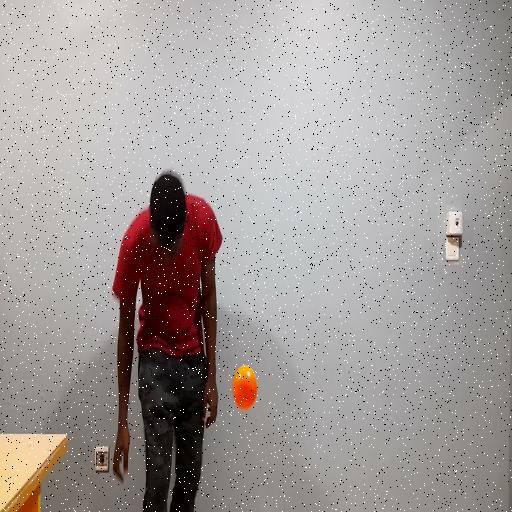plastic-ball: (230, 360, 260, 416)
